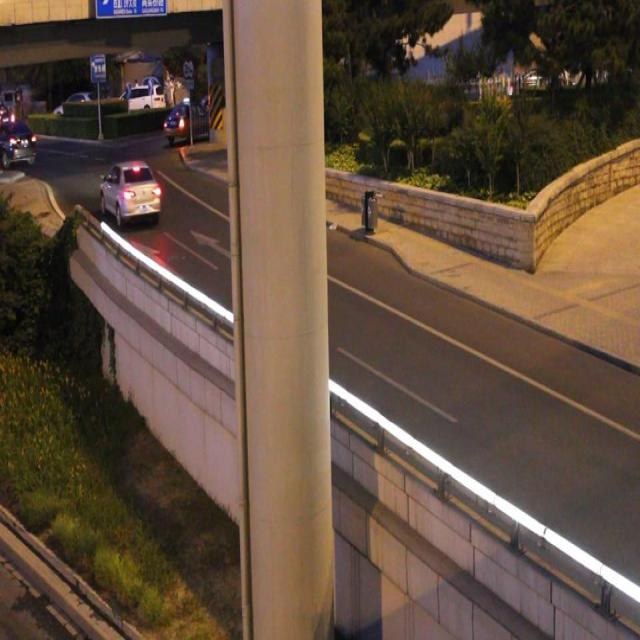car: (101, 160, 160, 218), (164, 101, 208, 142)
